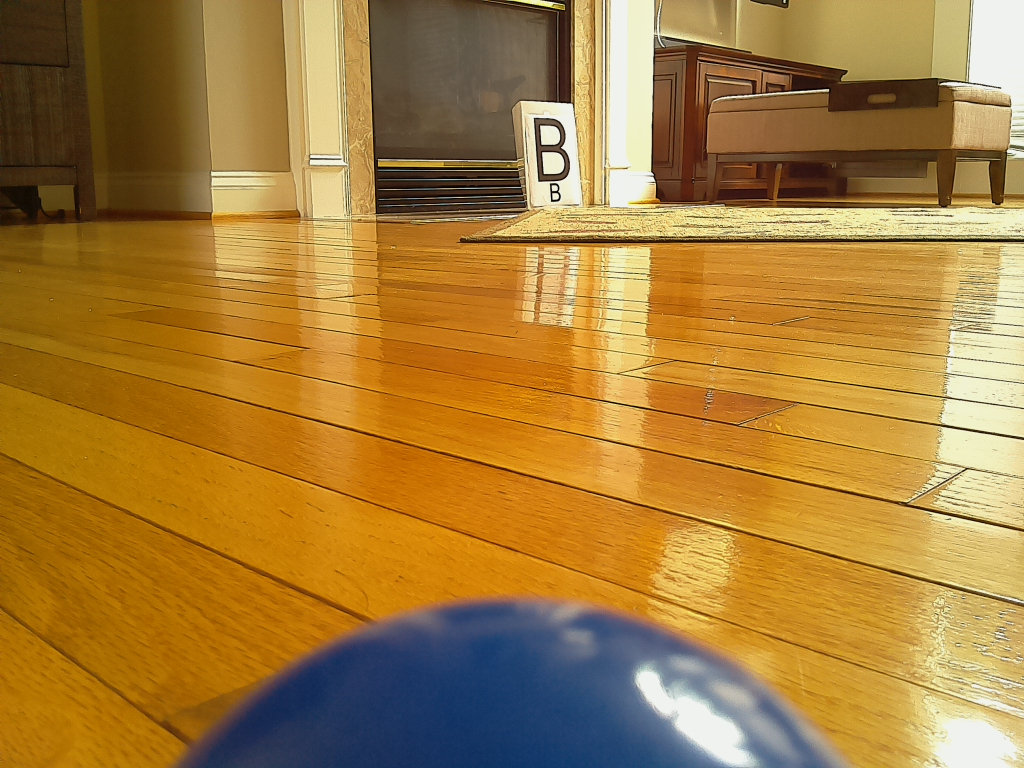letter: (532, 118, 571, 182)
